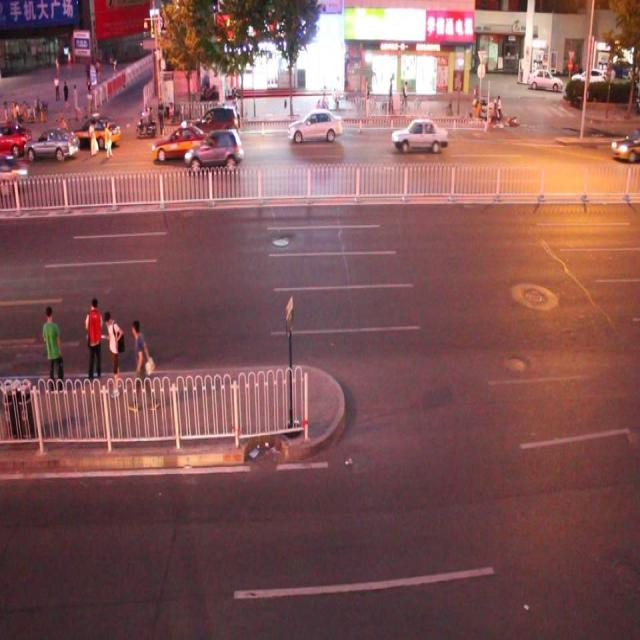car: (184, 127, 243, 173), (391, 116, 448, 154), (152, 124, 210, 160), (286, 108, 343, 144), (188, 105, 240, 144), (25, 126, 80, 162), (72, 114, 121, 148), (0, 120, 32, 156), (612, 127, 640, 166)
